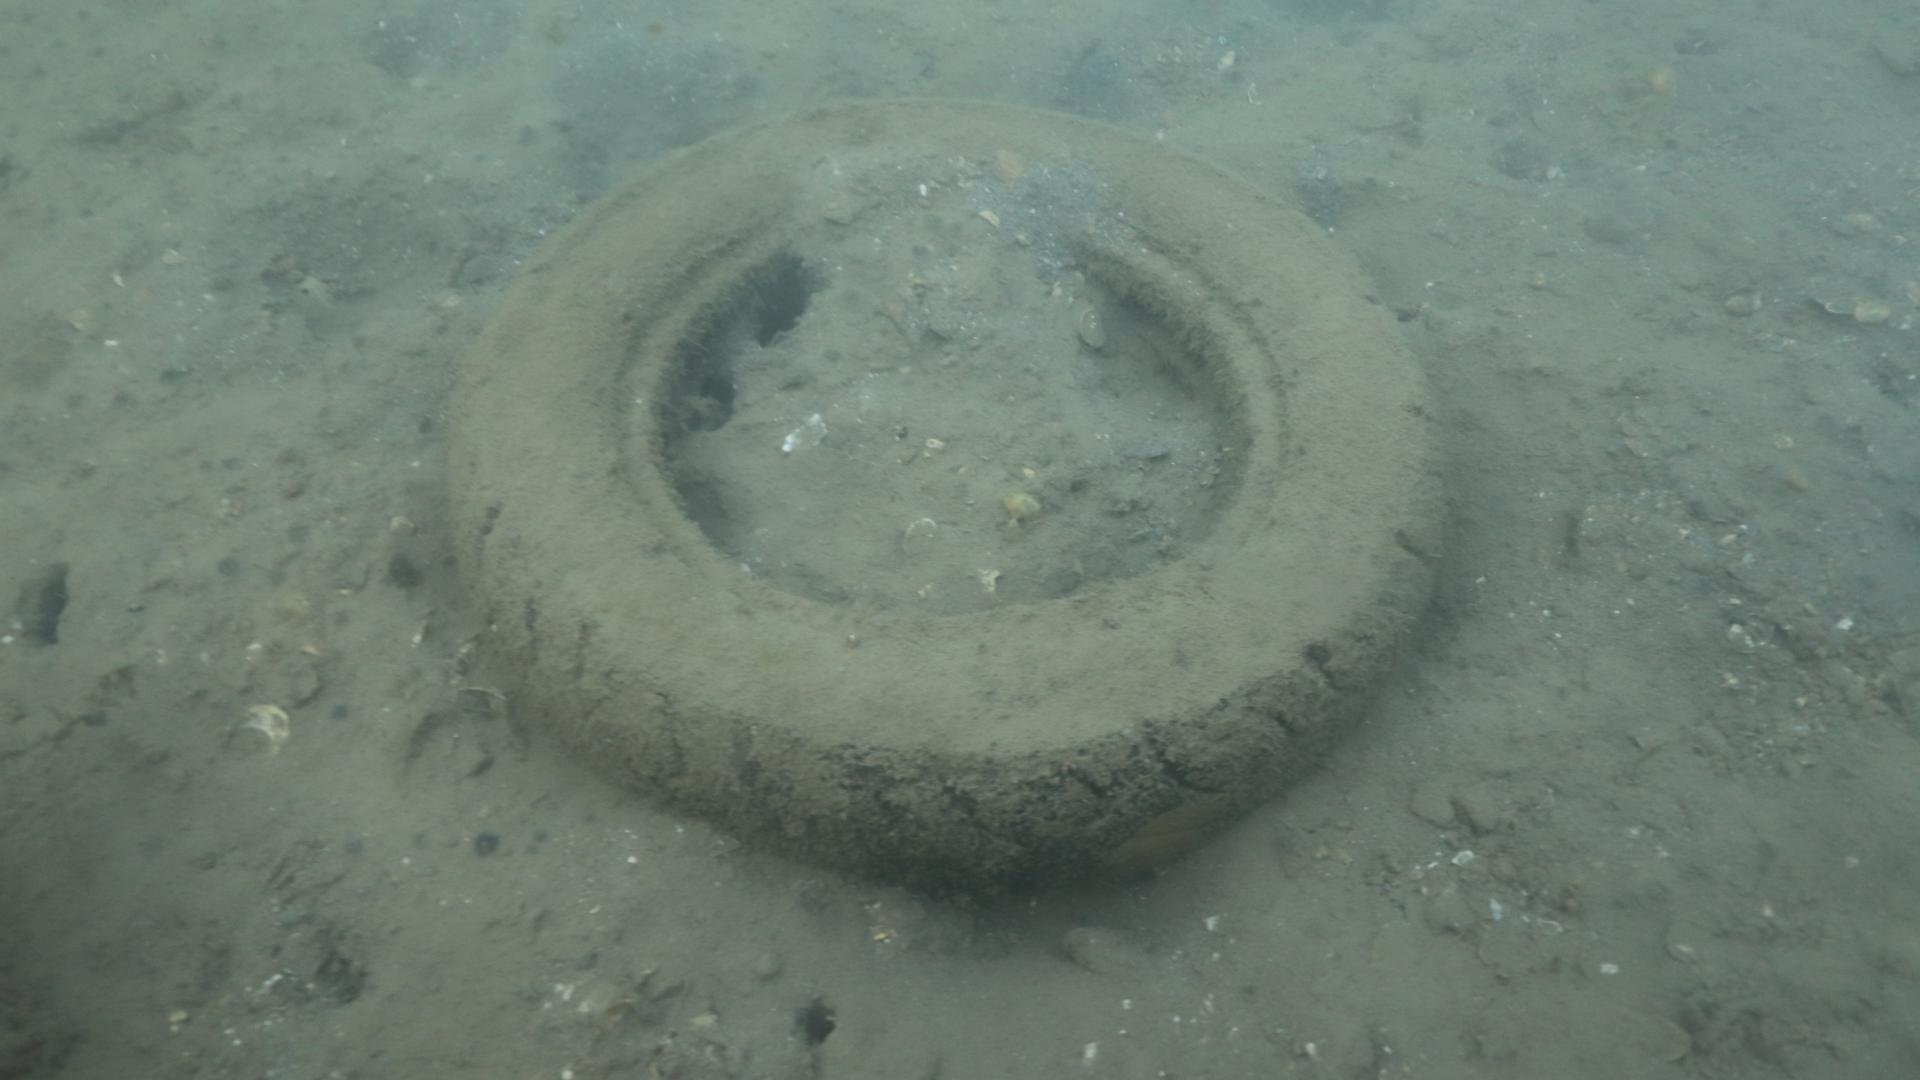tire: (440, 94, 1440, 899)
